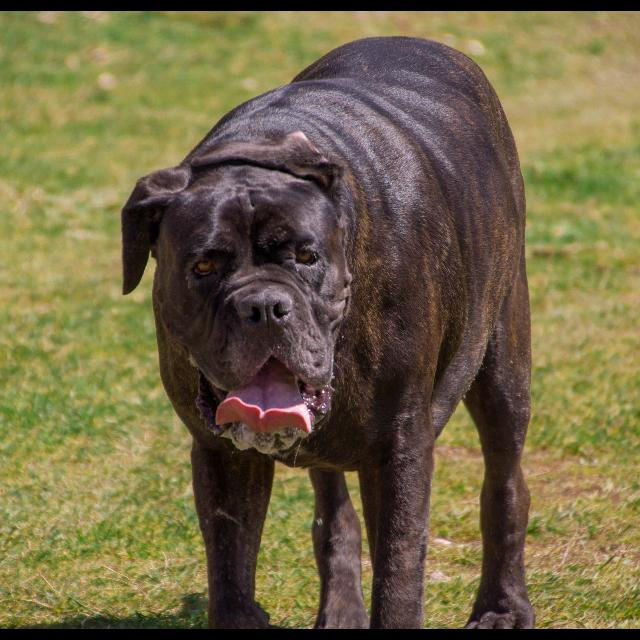mastino_napoletano: (122, 36, 537, 630)
